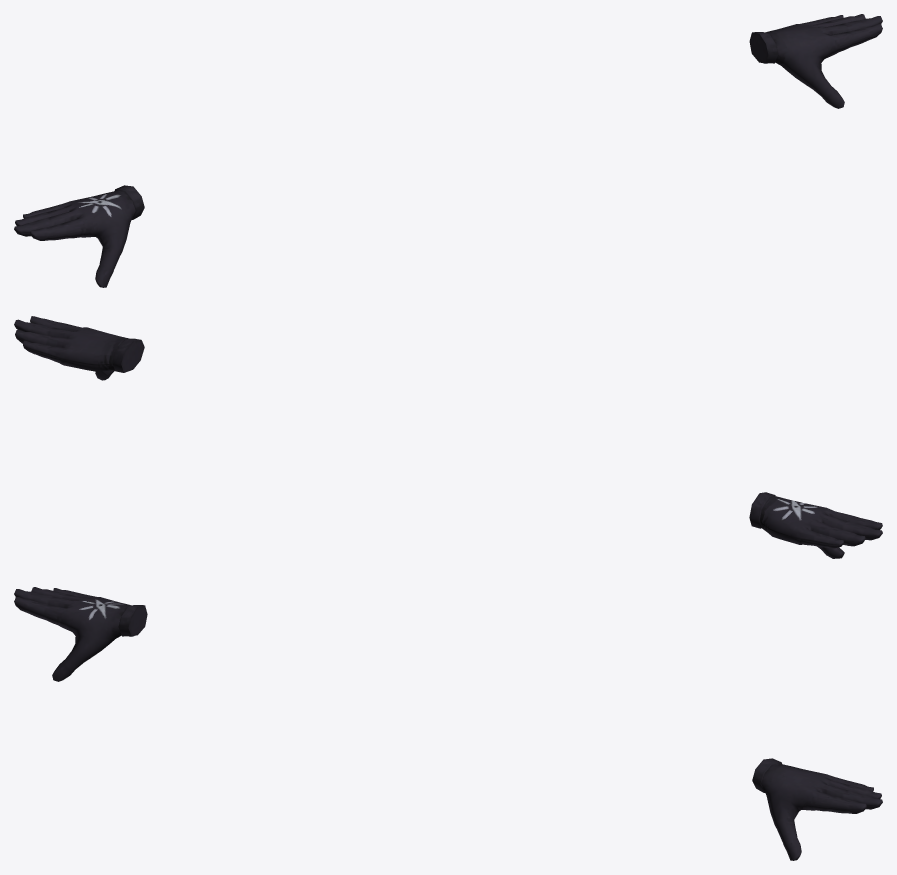
Rendered from p0_glv1002_00_glv00.gltf.
3 views of the same model, one above another, from view 1: azimuth 30°, elevation 25°; view 2: azimuth 150°, elevation 25°; view 3: azimuth 330°, elevation 25° (orthographic).
Visible parts, largest first — view 1: glv00_glove_mesh_shape:glove; view 2: glv00_glove_mesh_shape:glove; view 3: glv00_glove_mesh_shape:glove.
Part boxes in pixels (x1,y1,x2,y2): glv00_glove_mesh_shape:glove: (14,14,882,287); glv00_glove_mesh_shape:glove: (14,316,882,558); glv00_glove_mesh_shape:glove: (14,587,882,860).
Size of what is drawn, in the model's own units: 1.36 by 0.1049 by 0.1177.
Materials: 2 (2 with a texture image).
